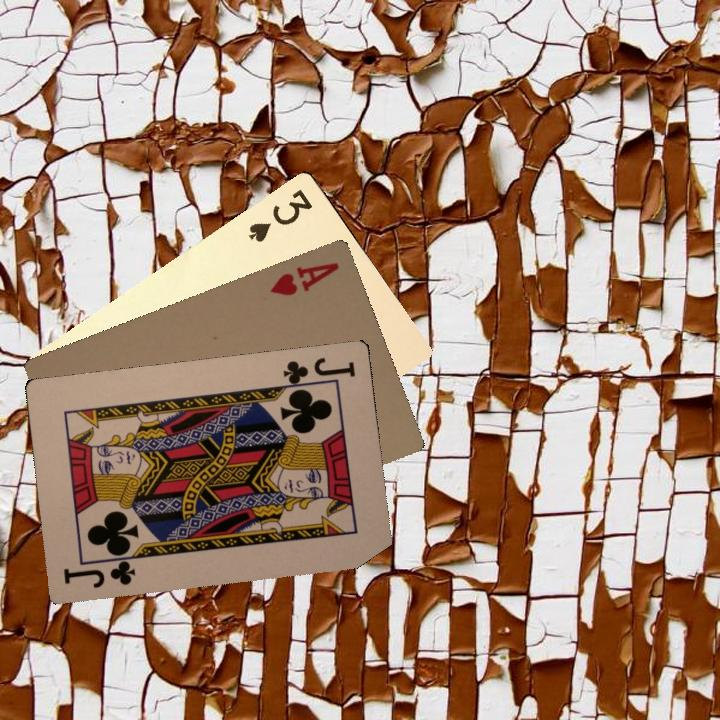3s: (244, 185, 315, 246)
Ah: (265, 258, 342, 299)
Jc: (59, 550, 139, 591), (278, 353, 358, 393)
